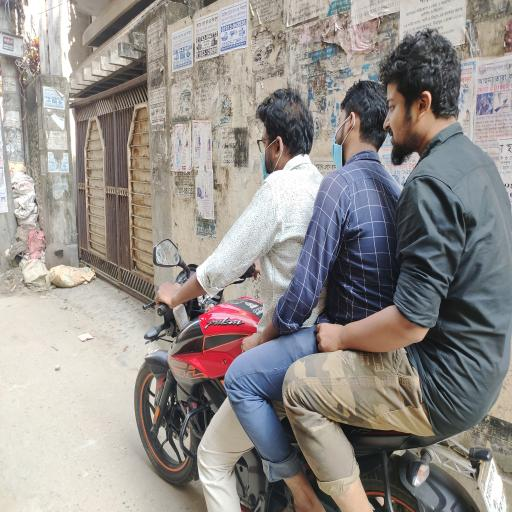helmet: (331, 114, 356, 169)
overloading: (139, 26, 509, 509)
